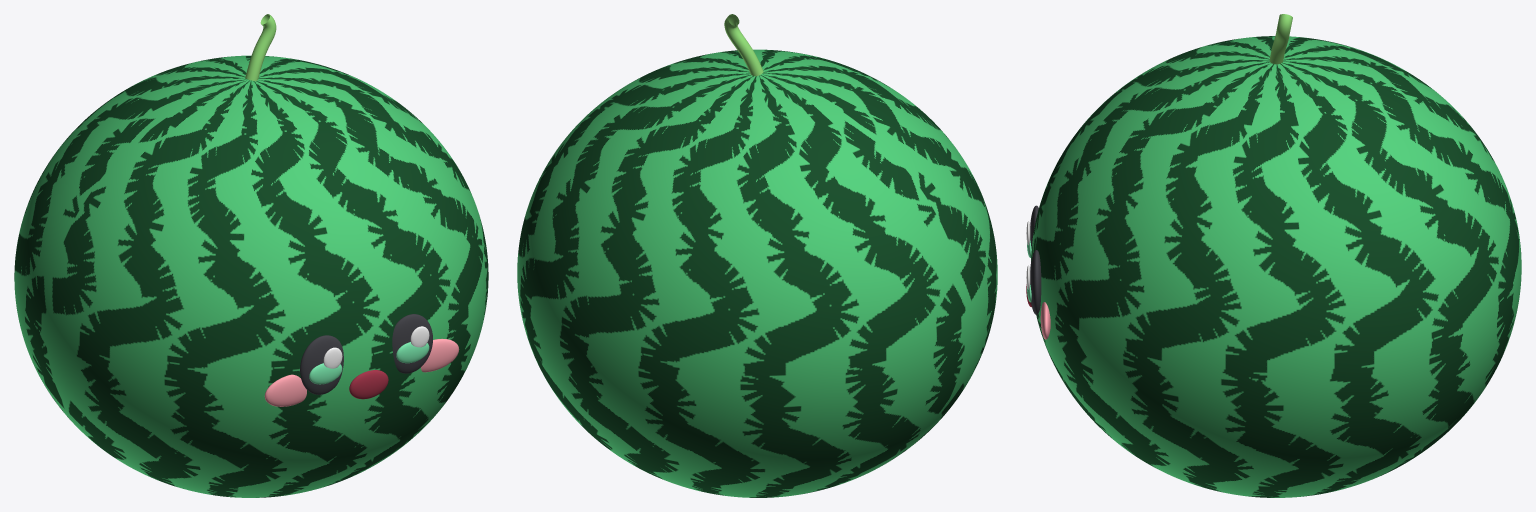
Rendered from watermelon.glb.
The picture shows the model from 3 angles, left to right: view 1: azimuth 30°, elevation 25°; view 2: azimuth 150°, elevation 25°; view 3: azimuth 270°, elevation 25°; orthographic projection. The views are drawn at different scales.
Parts seen in each view (by area): view 1: Fruit_Watermelon; view 2: Fruit_Watermelon; view 3: Fruit_Watermelon.
Part boxes in pixels (box(x1,y1,x2,y2)): Fruit_Watermelon: box(14, 14, 488, 497); Fruit_Watermelon: box(517, 14, 997, 497); Fruit_Watermelon: box(1026, 14, 1521, 497).
Size of the model in its own units: 3.97 by 4.16 by 3.97.
8 materials, 1 textured.
